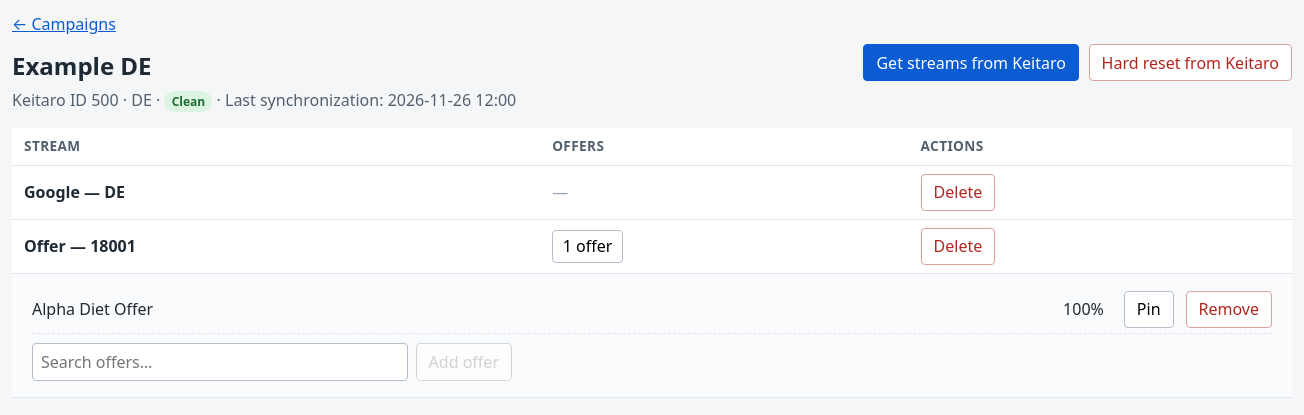
Test: CampaignEditorPage — offer editing › omits stream shares and shows offers by default for offer-capable streams
Check: the text "Google — DE" is shown, box x1=24 y1=181 x2=125 y2=203
Check: the text "—" is shown, box x1=552 y1=181 x2=568 y2=203
Click the button "1 offer". click: coordinates (588, 246)
box: x1=552 y1=230 x2=623 y2=263
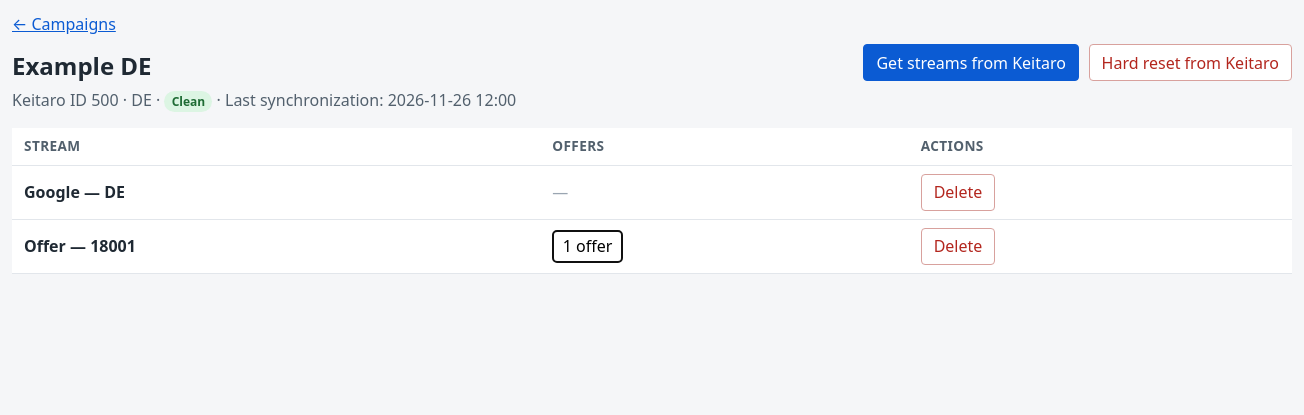
Check: the text "Alpha Diet Offer" is gone
